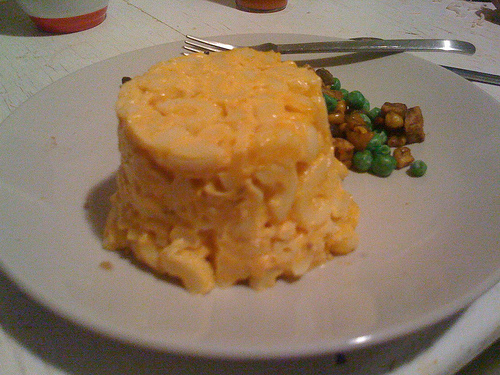macncheese: (82, 47, 361, 293)
